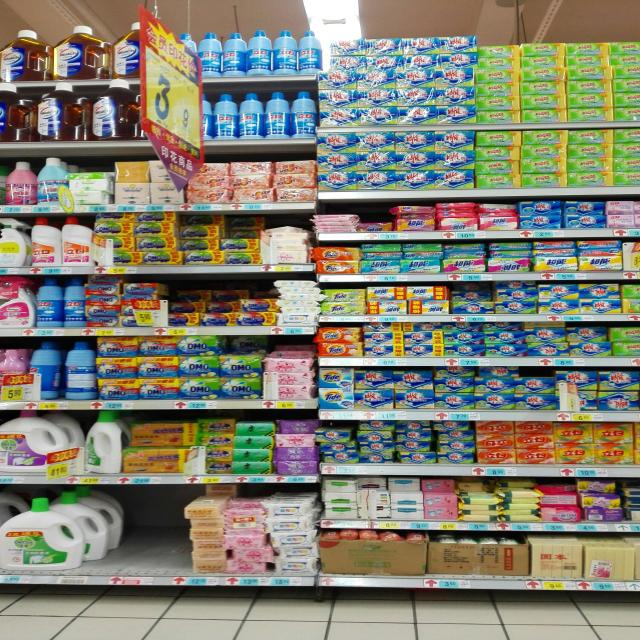unorganised: (317, 421, 477, 464), (268, 495, 321, 576), (224, 499, 271, 576), (459, 480, 541, 522), (82, 410, 123, 476), (169, 282, 243, 314), (63, 341, 100, 401), (274, 159, 316, 201), (389, 478, 454, 495), (224, 212, 265, 238), (540, 481, 580, 506), (449, 282, 494, 300), (567, 325, 610, 343), (228, 336, 269, 354), (479, 40, 521, 57), (481, 200, 520, 218), (230, 175, 272, 191), (439, 214, 477, 231), (182, 211, 222, 226), (479, 366, 520, 378), (494, 280, 536, 291), (359, 219, 394, 232)
